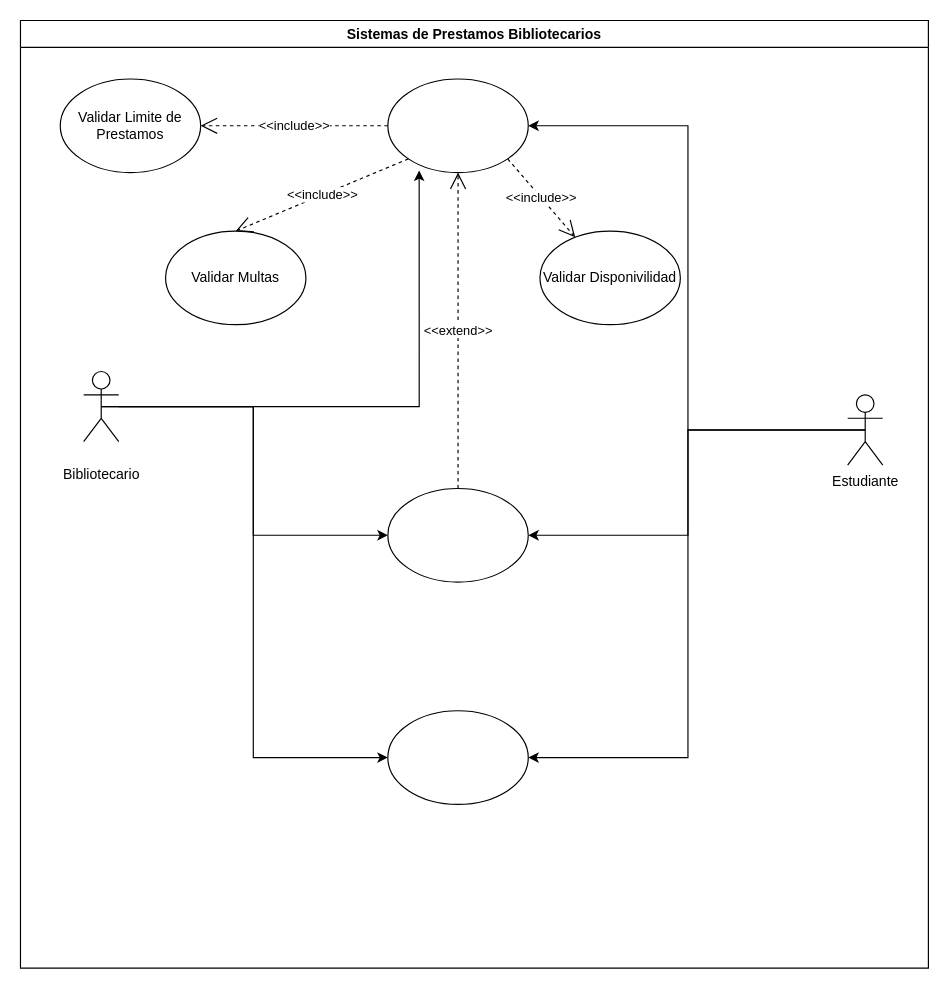
This 949x989 diagram has some shape labels left out. The centre of each missing label's shape, as x and y in pixels:
Registrar Devolucion: pixel 457 757
Registrar Prestamo: pixel 457 125
Renovar Prestamos: pixel 457 534
